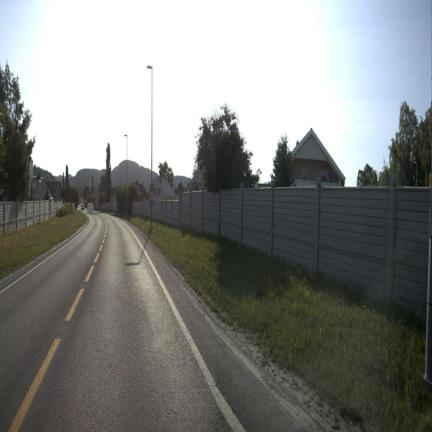Road: (0, 213, 322, 430)
